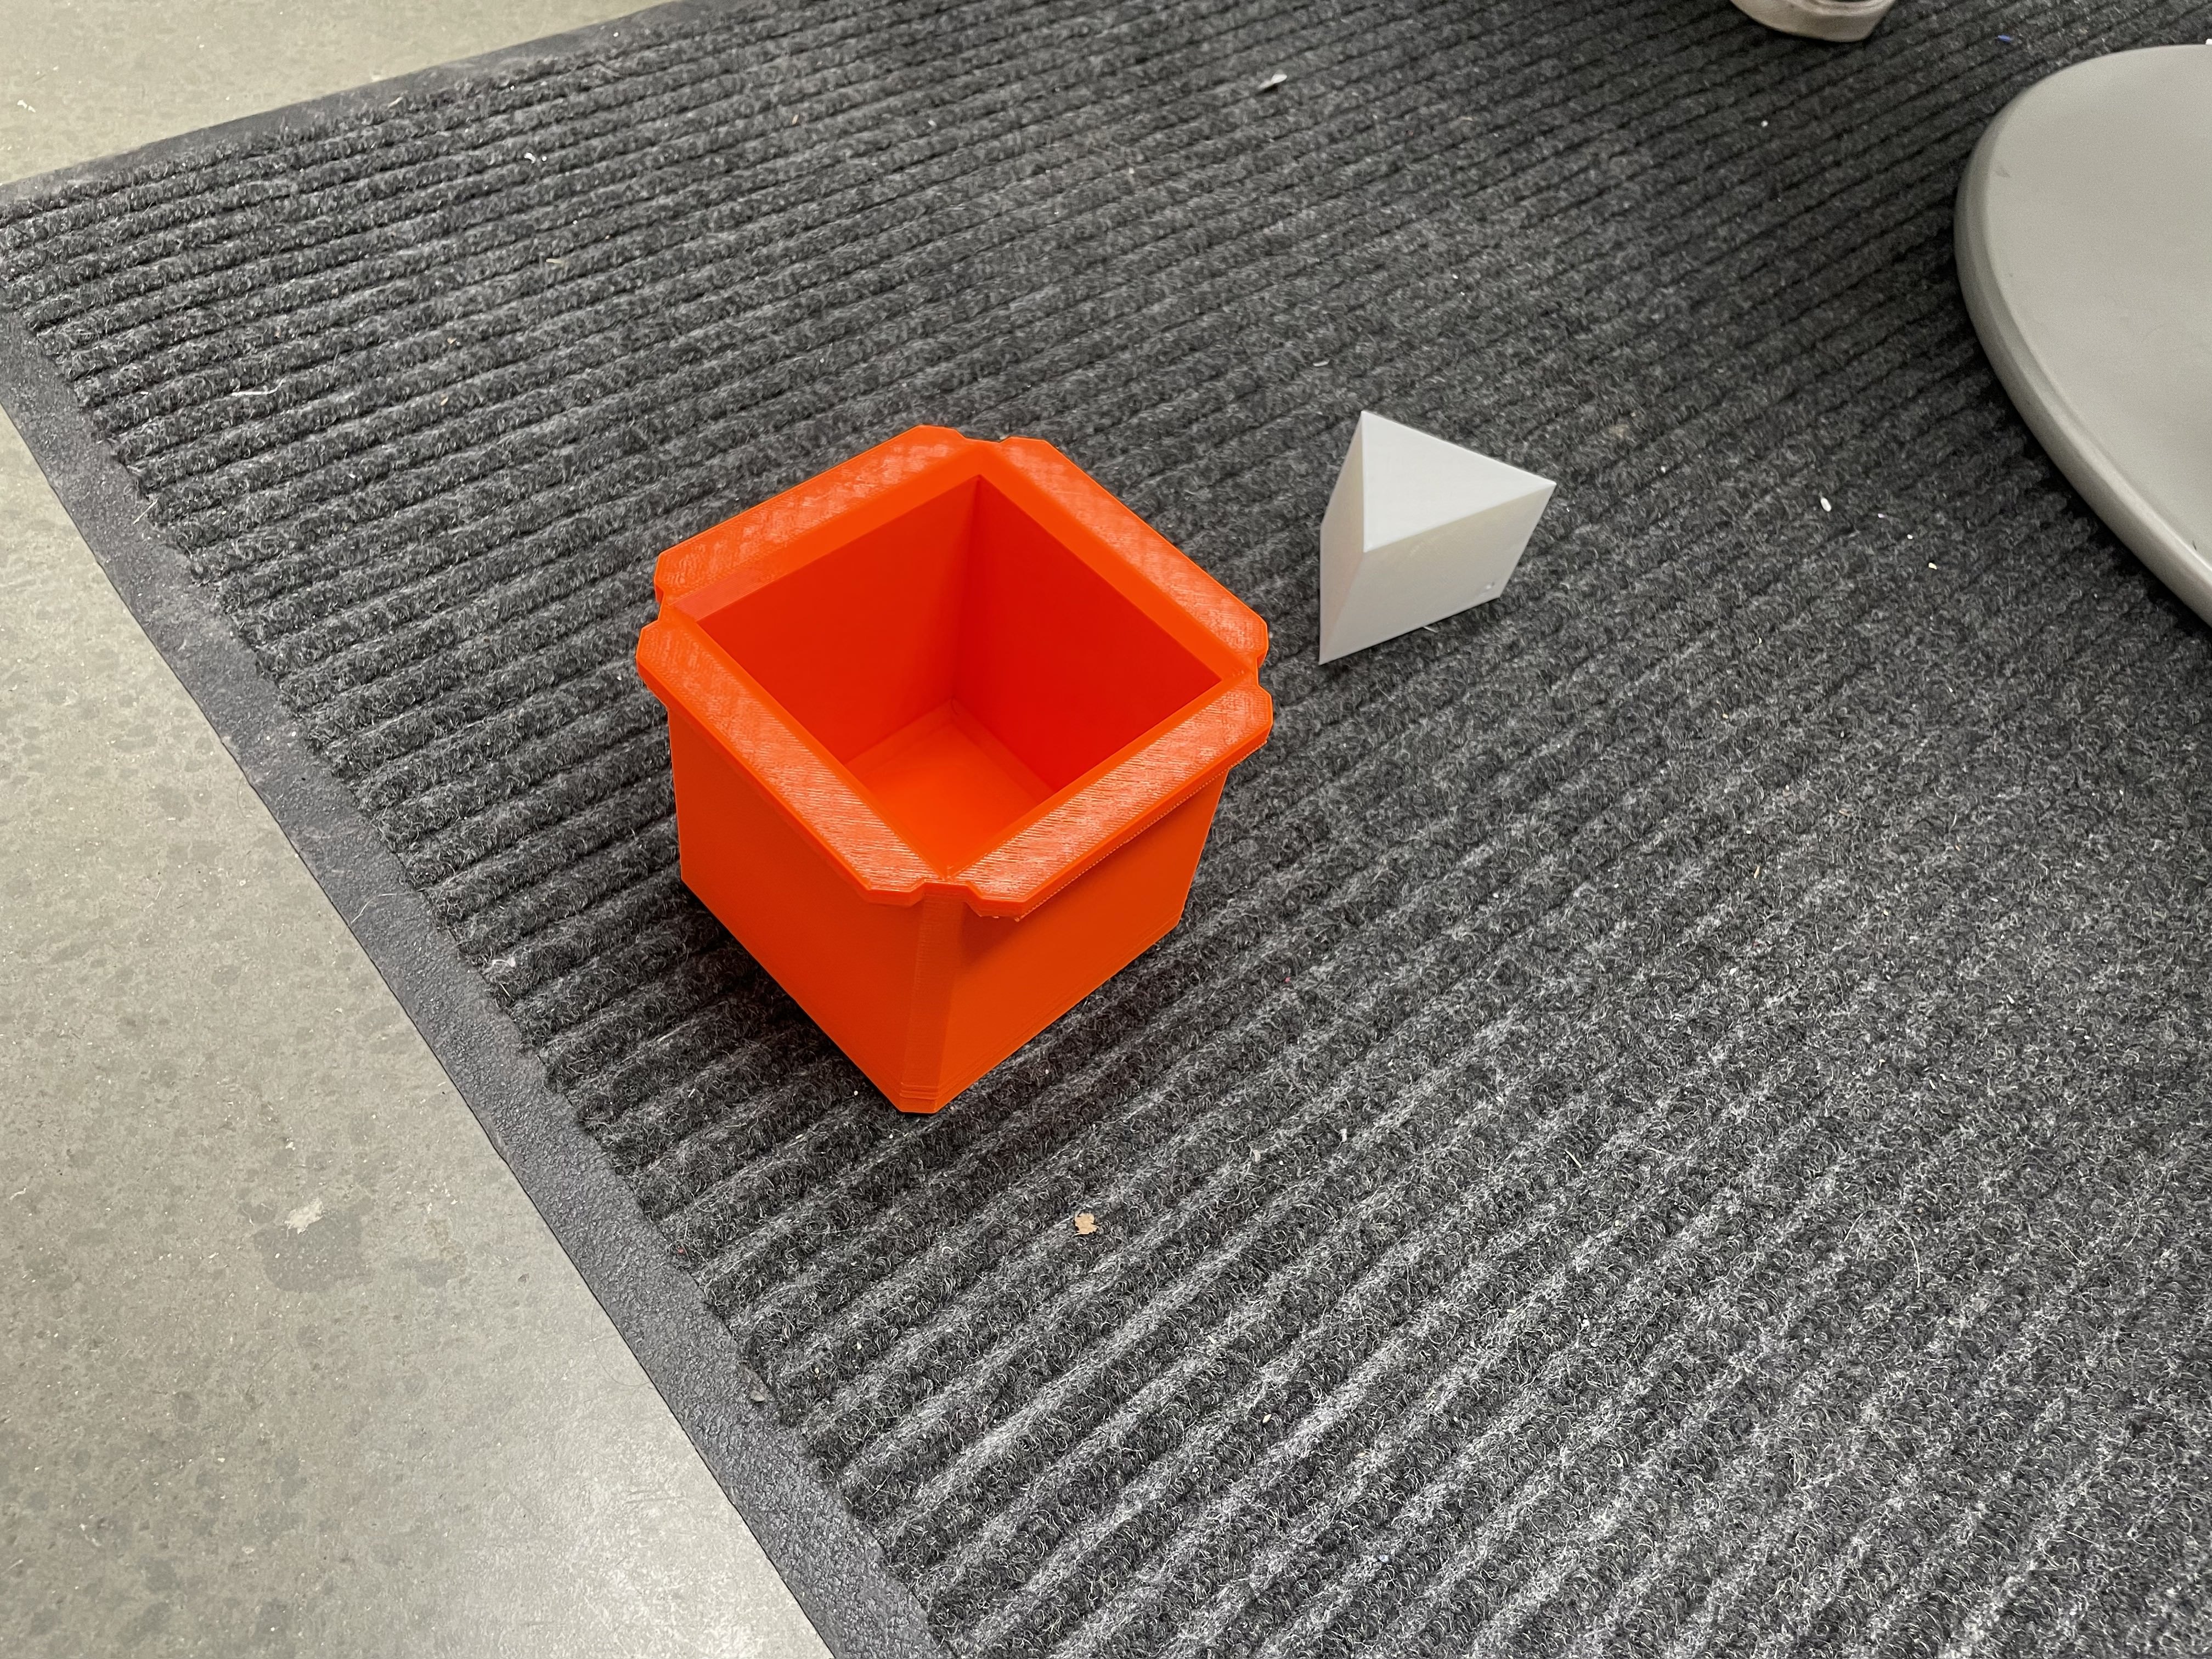payload1: (589, 383, 1296, 1166)
payload2: (1296, 369, 1604, 683)
